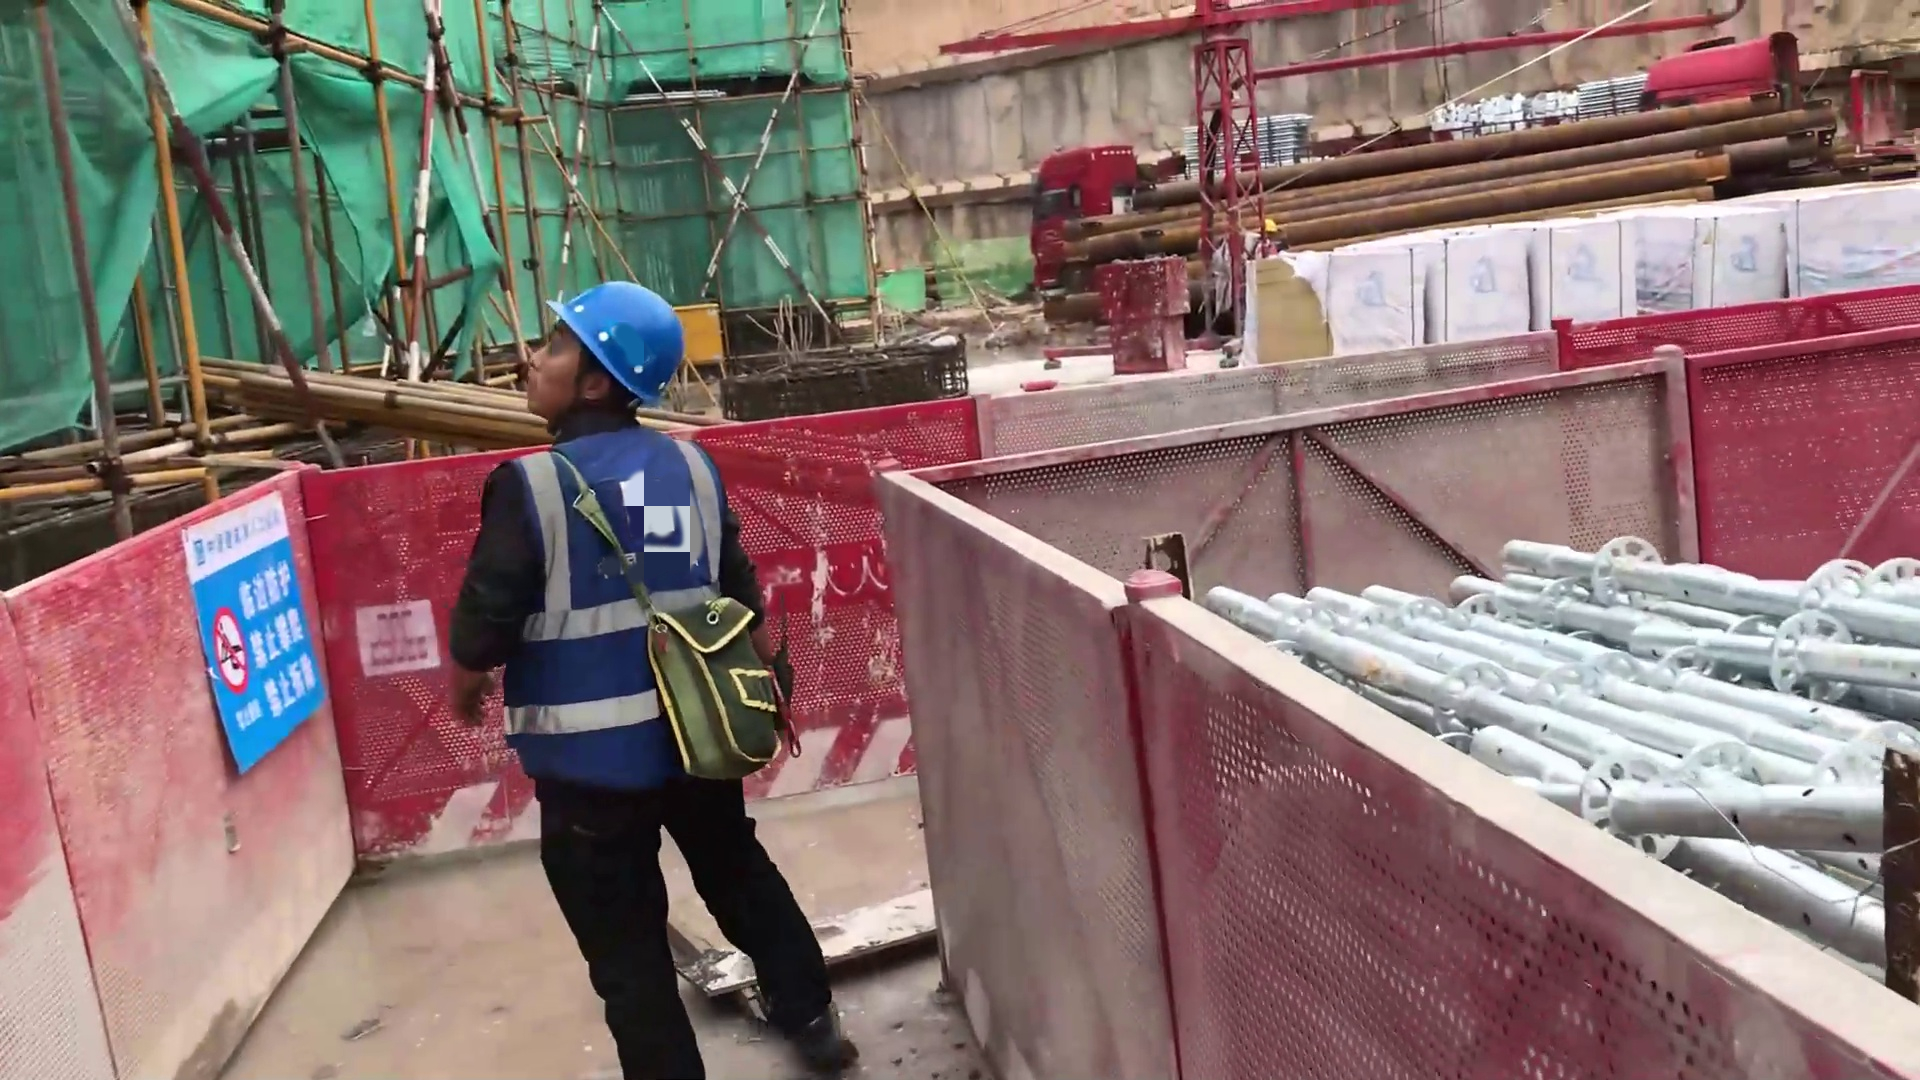ebox: (671, 302, 738, 389)
fence: (1, 464, 320, 1043)
helmet: (537, 274, 685, 405)
person: (451, 276, 874, 1078)
scaffold: (1185, 112, 1315, 166), (1576, 75, 1645, 119)
slogan: (186, 496, 314, 776)
vest: (485, 426, 758, 793)
